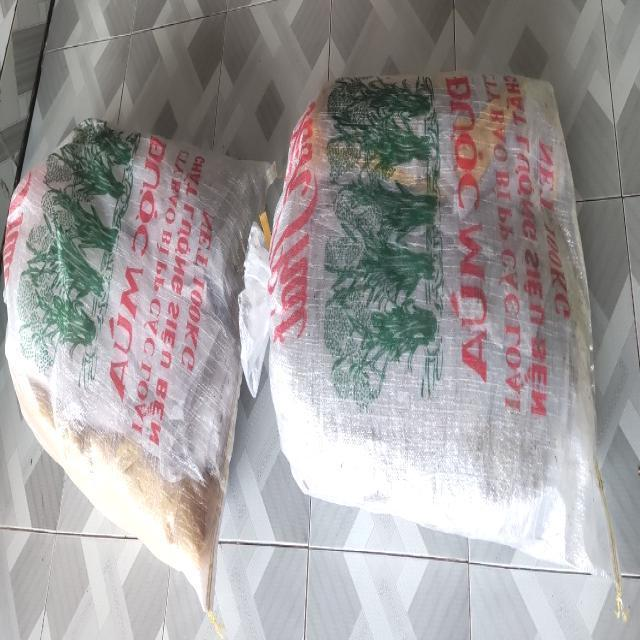gunny_bag: (268, 70, 617, 576), (3, 118, 274, 609)
